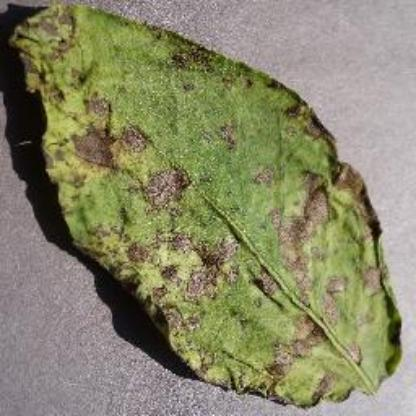Early-Blight: (2, 0, 410, 410)
